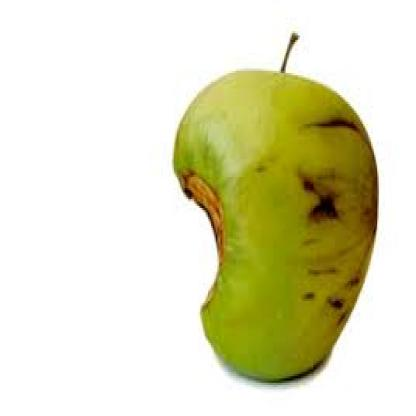damaged_apple: (169, 67, 385, 390)
